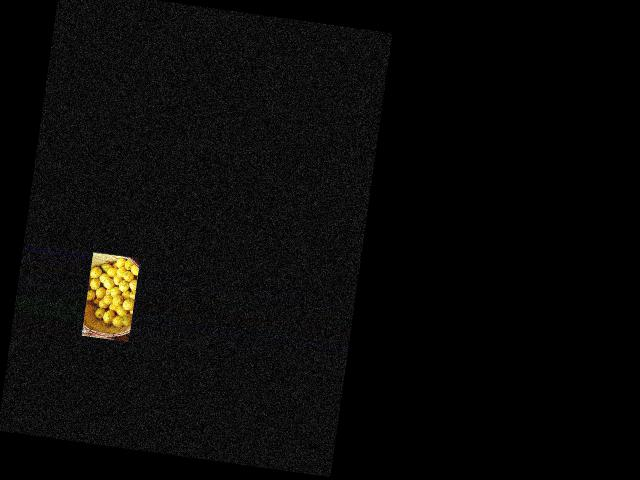lemon: (87, 288, 98, 300)
